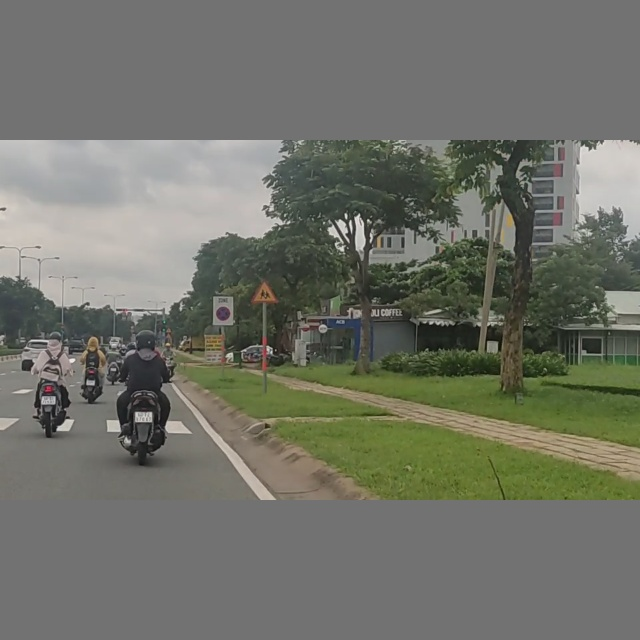P.130: (216, 307, 230, 321)
W.225: (251, 280, 278, 303)
